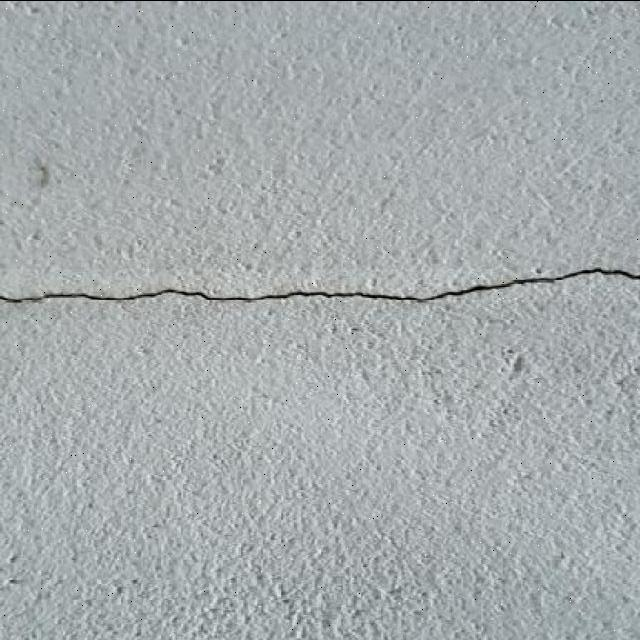crack: (0, 264, 639, 308)
